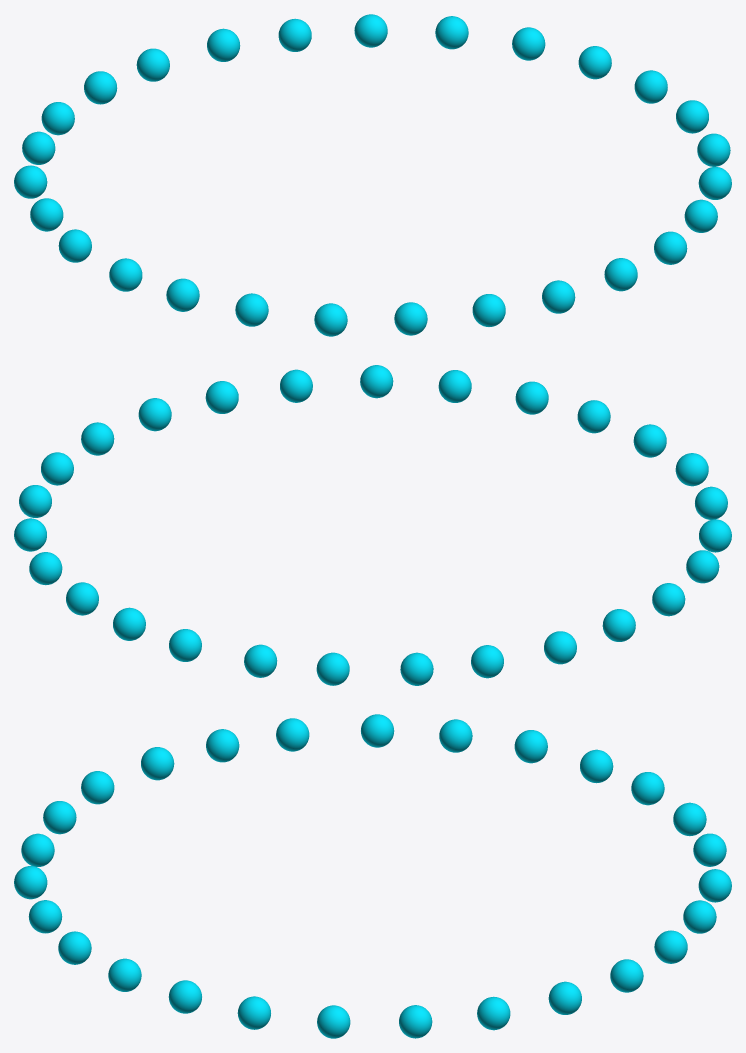
3 views of the same model, one above another, from view 1: azimuth 30°, elevation 25°; view 2: azimuth 150°, elevation 25°; view 3: azimuth 270°, elevation 25° (orthographic).
Visible parts, largest first — view 1: Sphere050; view 2: Sphere050; view 3: Sphere050.
Boxes of the visible parts, x1,y1,x2,y2 form: Sphere050: [14, 14, 731, 336]; Sphere050: [14, 365, 731, 685]; Sphere050: [14, 714, 731, 1038].
Size of the model in its own units: 177 by 8.22 by 176.
